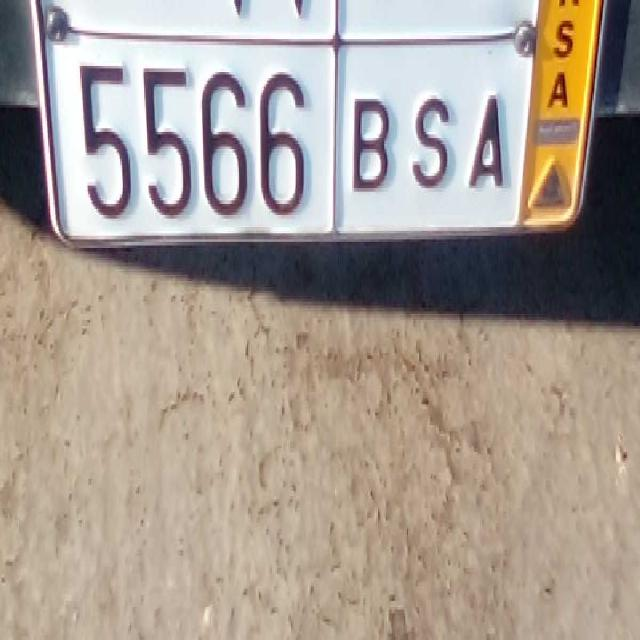license_plate: (58, 24, 516, 240)
